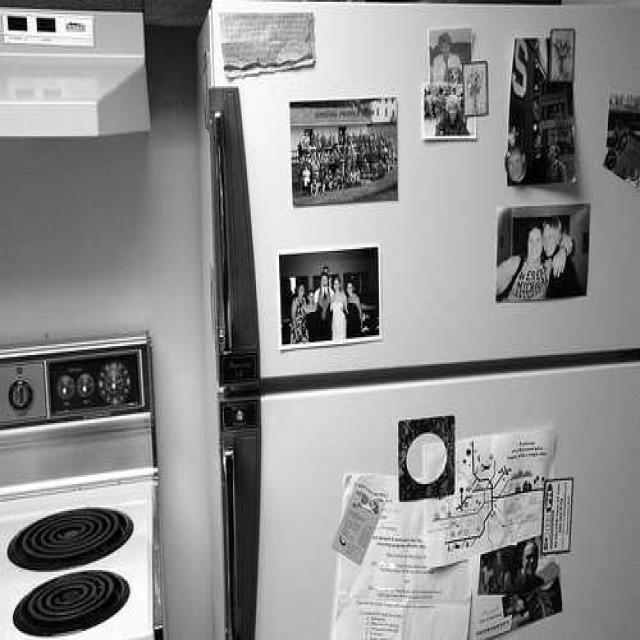refrigerator: (208, 0, 640, 640)
